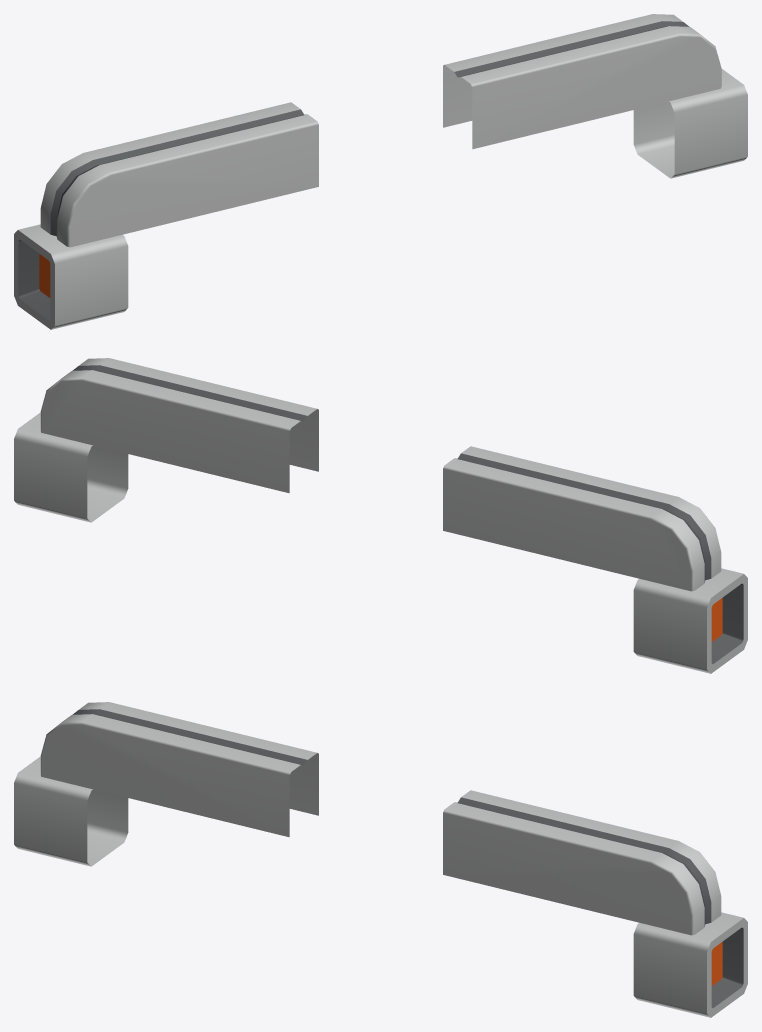
Rendered from Car_13_Turbine.fbx.
The picture shows the model from 3 angles, top to bottom: view 1: azimuth 30°, elevation 25°; view 2: azimuth 150°, elevation 25°; view 3: azimuth 330°, elevation 25°; orthographic projection.
Visible parts, largest first — view 1: Car_13_Turbine; view 2: Car_13_Turbine; view 3: Car_13_Turbine.
Boxes of the visible parts, x1=… form: Car_13_Turbine: x1=14, y1=14, x2=747, y2=329; Car_13_Turbine: x1=14, y1=358, x2=747, y2=673; Car_13_Turbine: x1=14, y1=702, x2=747, y2=1017.
Size of the model in its own units: 228 by 23.34 by 44.15.
